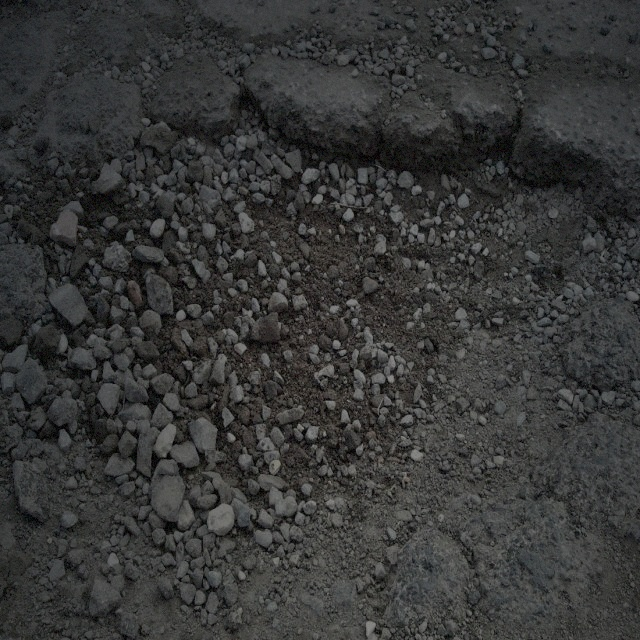pothole: (76, 80, 546, 413)
